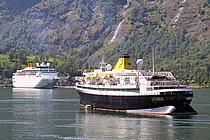Ship: (77, 49, 198, 117), (11, 58, 61, 92)
